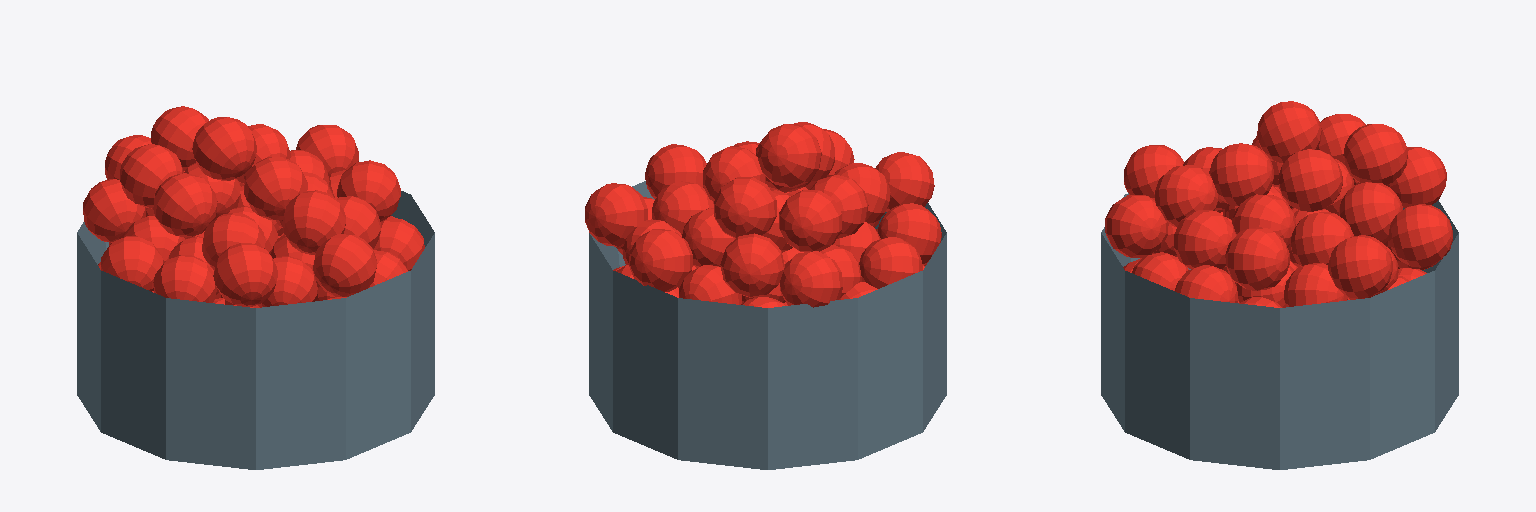
The picture shows the model from 3 angles: view 1: azimuth 30°, elevation 25°; view 2: azimuth 150°, elevation 25°; view 3: azimuth 270°, elevation 25°; orthographic projection.
Visible parts, largest first — view 1: group[number redacted], group[number redacted], group[number redacted], group[number redacted], group[number redacted], group[number redacted], group[number redacted], group[number redacted], group[number redacted], group[number redacted], group[number redacted], group[number redacted] (+15 smaller); view 2: group[number redacted], group[number redacted], group[number redacted], group[number redacted], group[number redacted], group[number redacted], group[number redacted], group[number redacted], group[number redacted], group[number redacted], group[number redacted], group[number redacted] (+12 smaller); view 3: group[number redacted], group[number redacted], group[number redacted], group[number redacted], group[number redacted], group[number redacted], group[number redacted], group[number redacted], group[number redacted], group[number redacted], group[number redacted], group[number redacted] (+10 smaller).
Part boxes in pixels (x1,y1,x2,y2): group[number redacted]: (77,191,434,469); group[number redacted]: (192,117,256,180); group[number redacted]: (213,243,277,306); group[number redacted]: (153,173,217,237); group[number redacted]: (313,234,377,296); group[number redacted]: (282,190,345,254); group[number redacted]: (244,157,307,219); group[number redacted]: (83,179,145,242); group[number redacted]: (120,144,183,208); group[number redacted]: (337,160,400,221); group[number redacted]: (153,255,216,302); group[number redacted]: (101,236,162,291); group[number redacted]: (589,181,946,469); group[number redacted]: (720,233,784,297); group[number redacted]: (758,124,821,187); group[number redacted]: (779,190,841,251); group[number redacted]: (629,229,692,291); group[number redacted]: (714,177,776,238); group[number redacted]: (585,183,647,246); group[number redacted]: (780,251,842,307); group[number redacted]: (859,237,922,288); group[number redacted]: (875,152,934,211); group[number redacted]: (878,203,941,263); group[number redacted]: (645,144,706,198); group[number redacted]: (1101,193,1458,469); group[number redacted]: (1225,227,1289,290); group[number redacted]: (1388,204,1452,267); group[number redacted]: (1328,235,1392,298); group[number redacted]: (1278,149,1342,211); group[number redacted]: (1343,124,1407,184); group[number redacted]: (1105,195,1168,257); group[number redacted]: (1209,143,1273,205); group[number redacted]: (1257,101,1321,163); group[number redacted]: (1174,210,1236,268); group[number redacted]: (1154,165,1217,226); group[number redacted]: (1339,182,1402,242).
Size of the model in its own units: 0.11 by 0.0941 by 0.11.